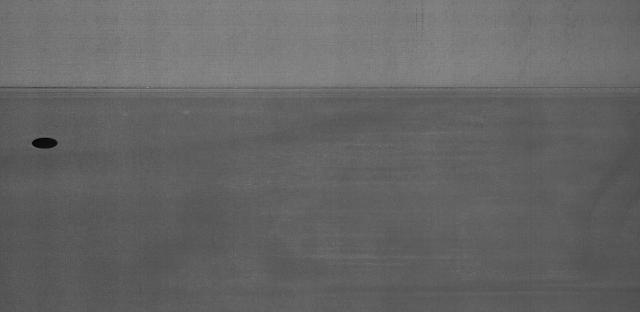punching_hole: (28, 133, 64, 153)
welding_line: (2, 72, 638, 103)
